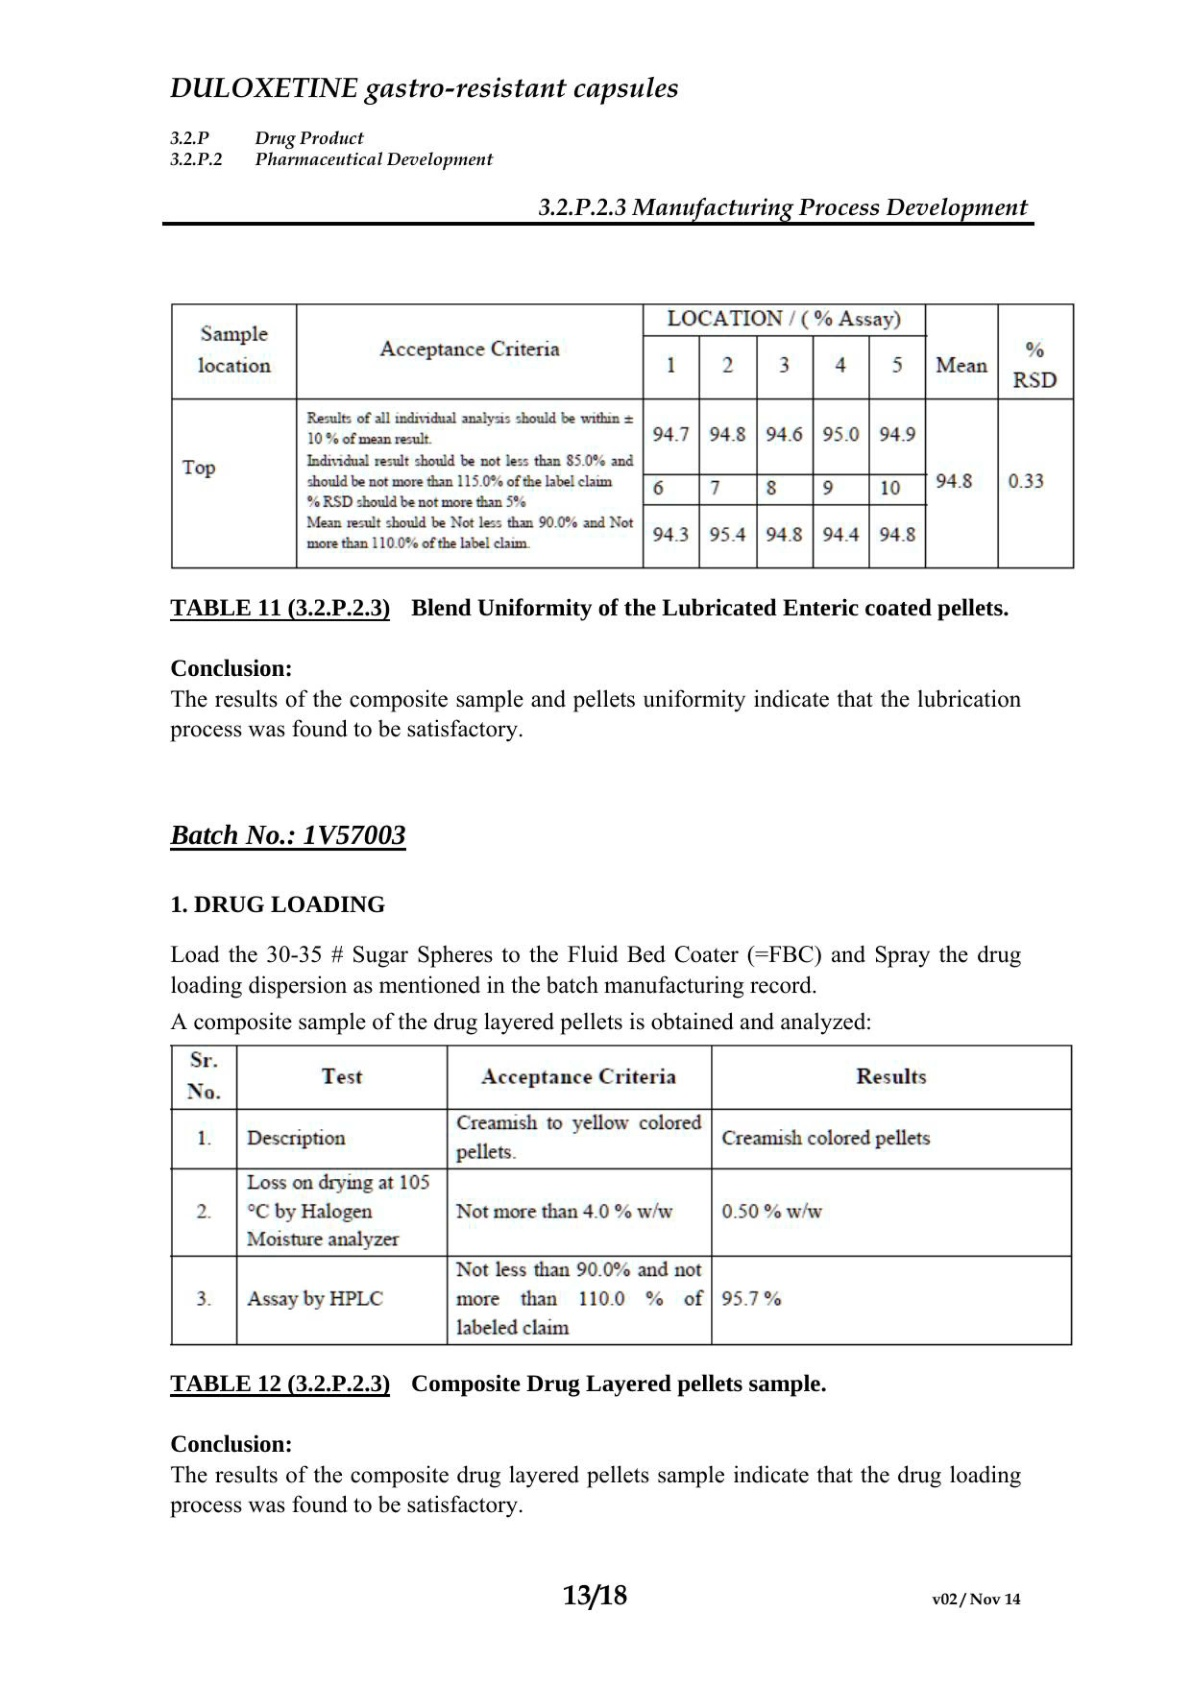full_lined: (170, 1042, 1073, 1346)
merged_cells: (168, 301, 1076, 570)
